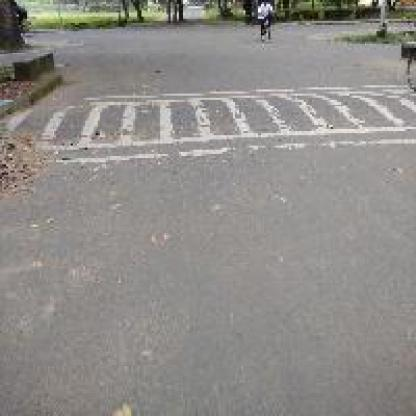Speed Bump: (29, 81, 404, 171)
